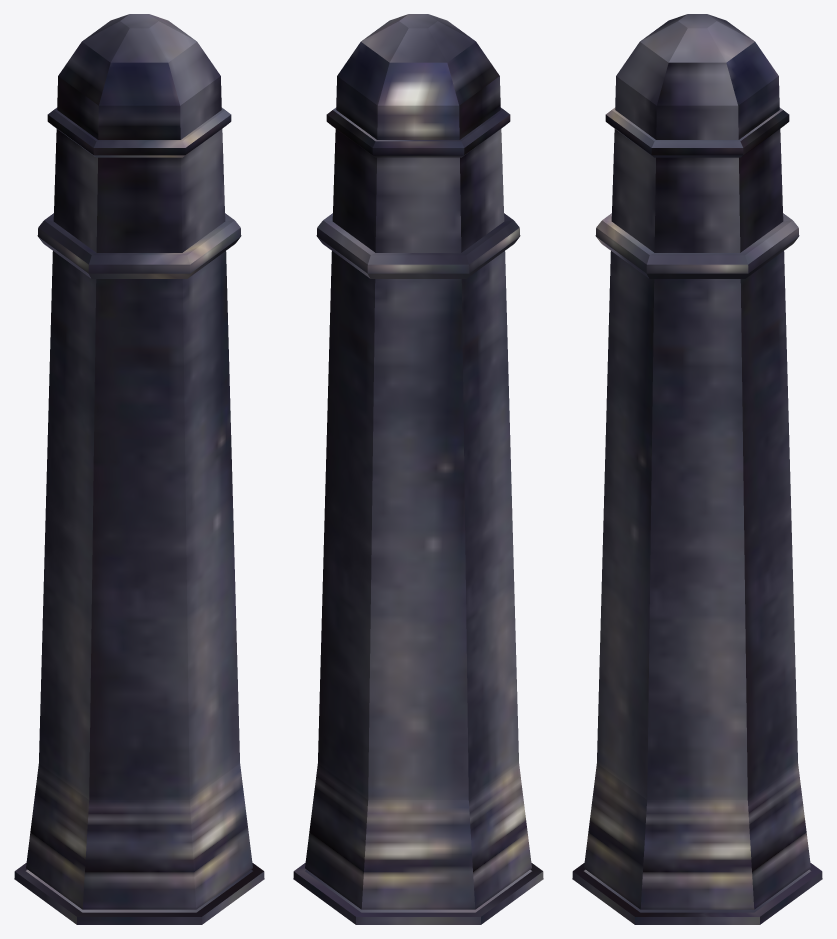
The model's file is Urban_RetroBollardDetailed_Model.fbx.
3 renders of one model, left to right at view 1: azimuth 30°, elevation 25°; view 2: azimuth 150°, elevation 25°; view 3: azimuth 270°, elevation 25°, orthographic.
Parts seen in each view (by area): view 1: Urban_RetroBollardDetailed_Mesh; view 2: Urban_RetroBollardDetailed_Mesh; view 3: Urban_RetroBollardDetailed_Mesh.
Boxes of the visible parts, <box> form: Urban_RetroBollardDetailed_Mesh: <box>14,14,264,924</box>; Urban_RetroBollardDetailed_Mesh: <box>293,14,543,924</box>; Urban_RetroBollardDetailed_Mesh: <box>572,14,822,924</box>.
Bounding box in the file's own units: 0.2974 × 1.3 × 0.3434.
